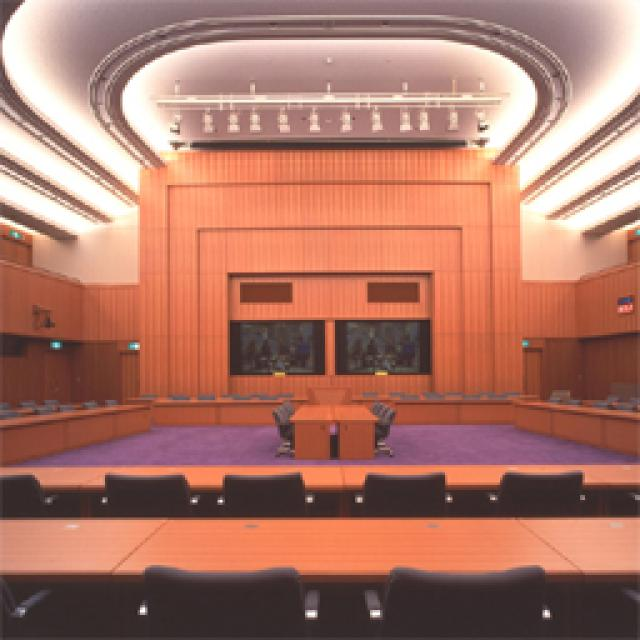carpet floor: (8, 422, 630, 460)
ceilling lamp: (145, 88, 508, 130)
chair: (482, 465, 585, 512), (350, 470, 455, 512), (100, 472, 195, 512), (218, 470, 308, 512)
chair -occluded-: (358, 560, 552, 632), (132, 565, 315, 635), (0, 472, 58, 517)
conference table: (0, 512, 635, 580), (0, 462, 638, 490), (0, 400, 148, 462), (512, 398, 635, 455), (285, 400, 375, 458), (152, 395, 290, 425)
door bars: (520, 345, 538, 390), (0, 235, 28, 260), (120, 350, 135, 390), (625, 235, 635, 258)
projection screen: (225, 315, 325, 375), (332, 315, 428, 372)
row of chairs: (0, 395, 110, 415), (545, 390, 632, 412), (355, 385, 518, 395), (390, 390, 522, 400), (138, 388, 275, 395)
